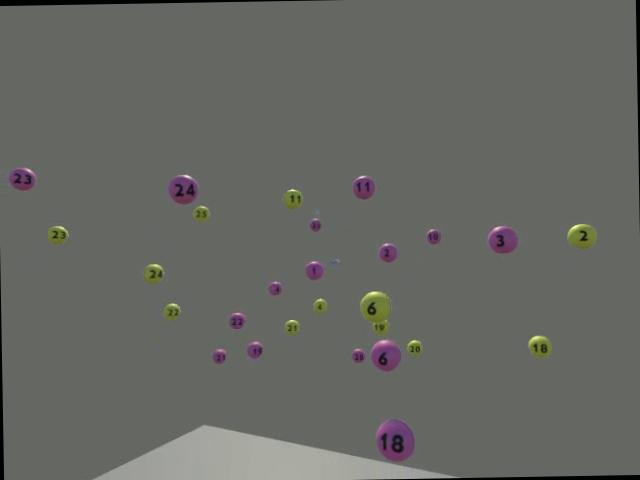ball_01_pink: (304, 261, 324, 279)
ball_02_pink: (378, 243, 398, 262)
ball_02_yellow: (567, 222, 596, 248)
ball_03_pink: (488, 225, 517, 253)
ball_04_pink: (268, 281, 282, 295)
ball_04_yellow: (312, 298, 327, 312)
ball_06_pink: (369, 338, 402, 372)
ball_06_yellow: (358, 289, 391, 322)
ball_10_pink: (426, 228, 441, 244)
ball_11_pink: (352, 175, 375, 198)
ball_11_yellow: (283, 188, 304, 207)
ball_18_pink: (375, 418, 414, 461)
ball_18_yellow: (528, 334, 551, 357)
ball_19_pink: (246, 342, 264, 358)
ball_19_yellow: (372, 319, 388, 334)
ball_20_pink: (351, 347, 365, 364)
ball_20_yellow: (407, 338, 422, 356)
ball_21_pink: (212, 349, 226, 363)
ball_21_yellow: (284, 318, 300, 334)
ball_22_pink: (228, 312, 246, 328)
ball_22_yellow: (163, 302, 180, 318)
ball_23_pink: (9, 166, 35, 191)
ball_23_yellow: (47, 224, 68, 244)
ball_24_pink: (168, 174, 198, 204), (308, 217, 322, 231)
ball_24_yellow: (142, 263, 164, 283)
ball_25_yellow: (192, 206, 209, 222)
